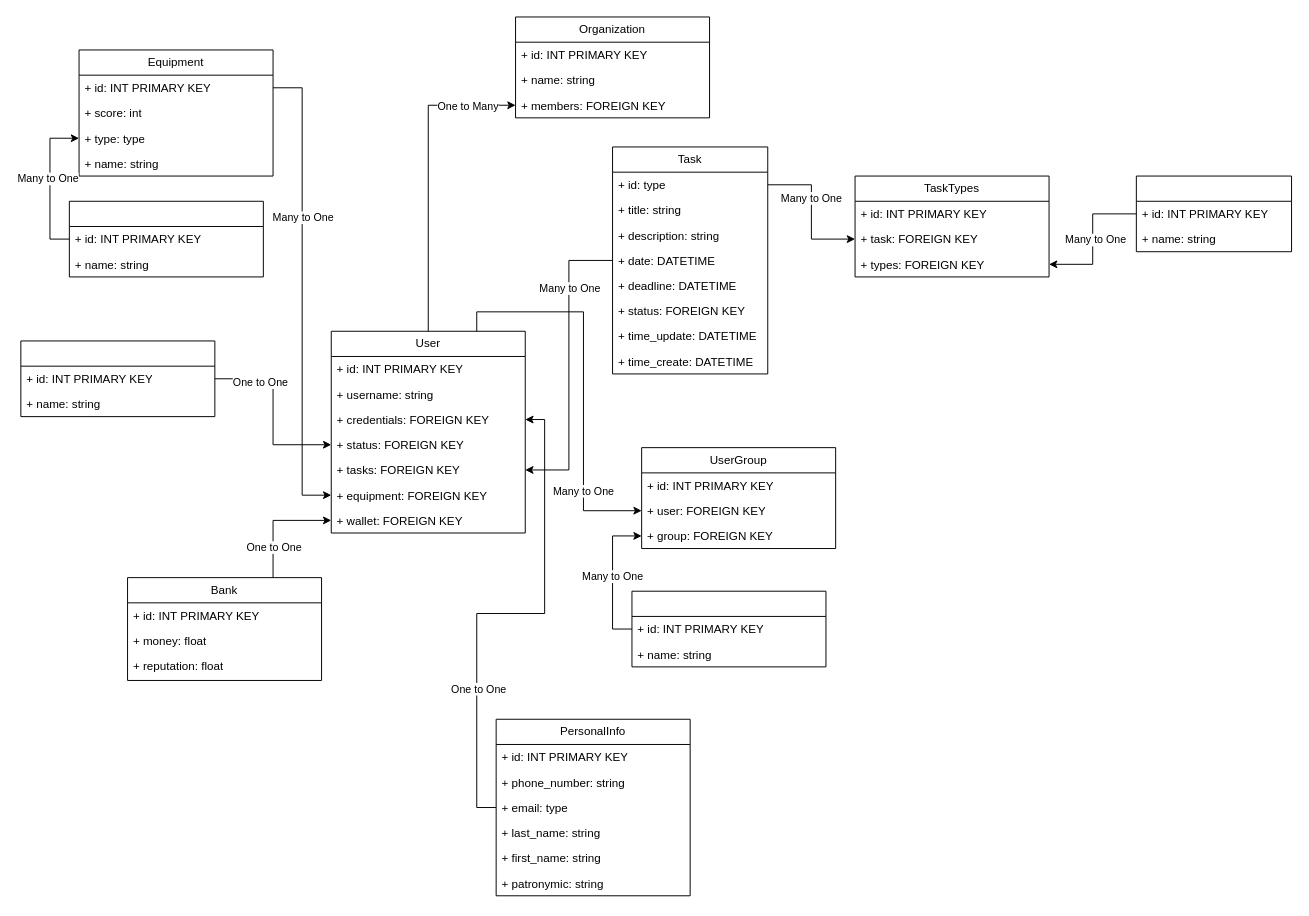
Image size: 1309x916. Some labels were removed from this diagram. Here are the shapes that lost their labels. From the top down, the box of each, then its label:
(1135, 175, 1292, 252): TaskType
(68, 200, 263, 277): EquipmentType
(20, 340, 215, 417): UserType
(631, 590, 826, 667): Group
